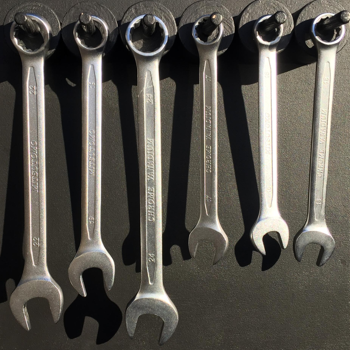bottom: (7, 271, 64, 333), (120, 290, 181, 346), (66, 246, 118, 299), (292, 224, 337, 271), (187, 222, 231, 265), (248, 213, 291, 257)
top: (121, 11, 171, 59), (8, 12, 57, 59), (308, 7, 347, 50), (71, 13, 111, 53), (186, 10, 225, 50), (251, 11, 287, 51)
